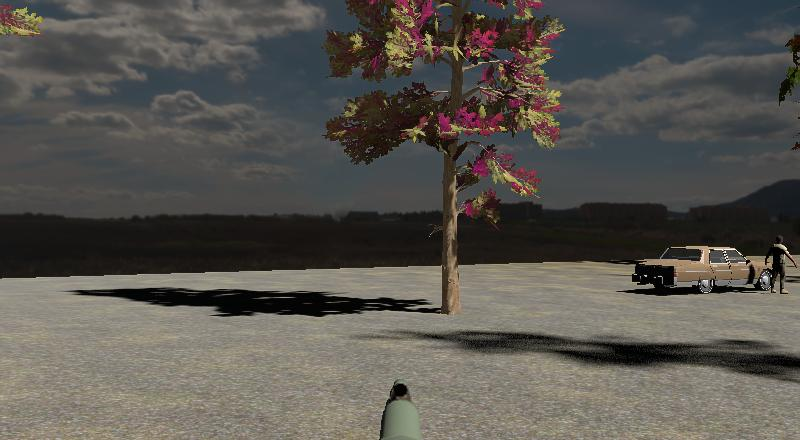Human: (763, 233, 798, 295)
car: (629, 243, 759, 296)
